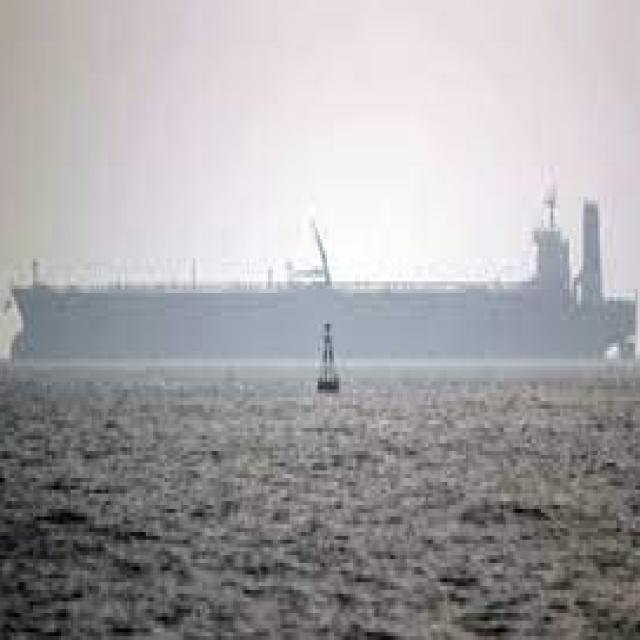cargoship: (7, 205, 640, 362)
